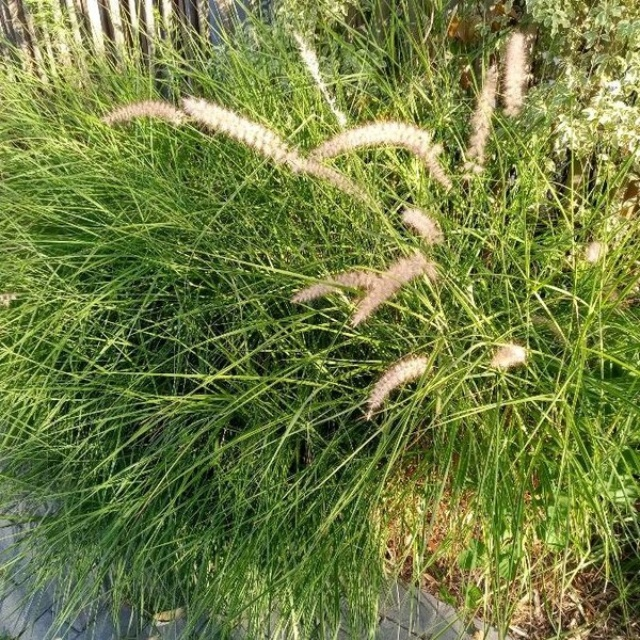obstacle: (61, 77, 562, 533)
